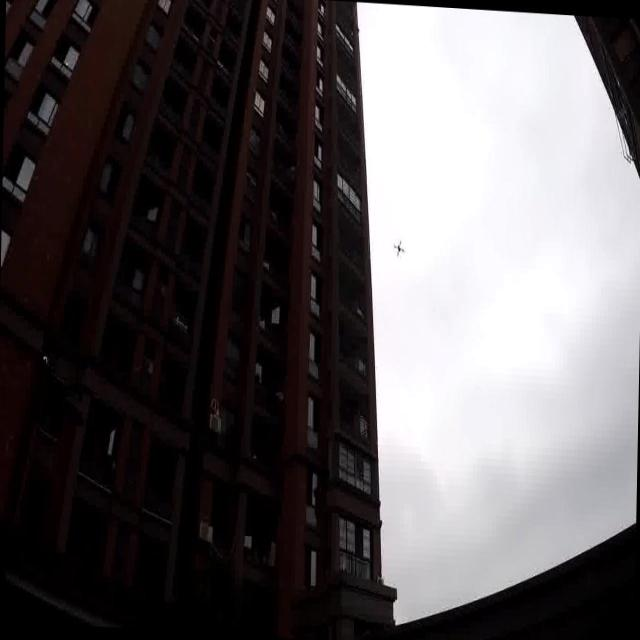drone: (391, 238, 406, 257)
